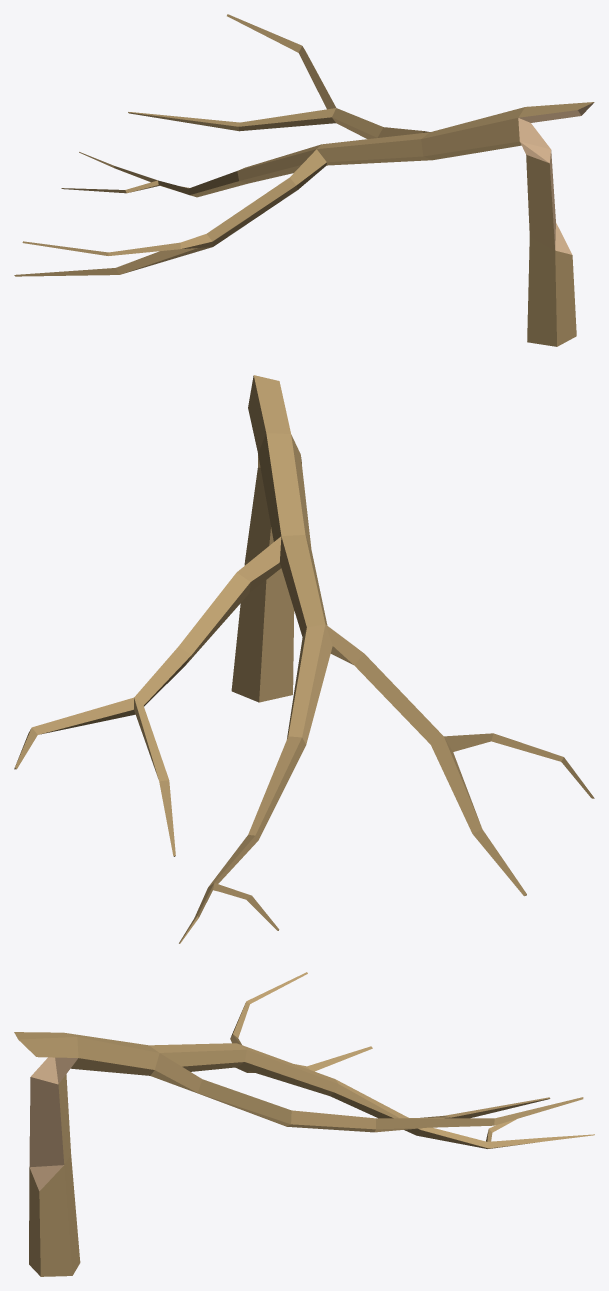
The model's file is Acacia_Tree_NoLeaves_crk_l_04.fbx.
3 renders of one model, top to bottom at view 1: azimuth 30°, elevation 25°; view 2: azimuth 150°, elevation 25°; view 3: azimuth 270°, elevation 25°, orthographic. The views are drawn at different scales.
Parts seen in each view (by area): view 1: Acacia_Tree_NoLeaves_crk_l_04; view 2: Acacia_Tree_NoLeaves_crk_l_04; view 3: Acacia_Tree_NoLeaves_crk_l_04.
Boxes of the visible parts, left/top/right/bottom form: Acacia_Tree_NoLeaves_crk_l_04: left=14, top=14, right=594, bottom=346; Acacia_Tree_NoLeaves_crk_l_04: left=14, top=375, right=594, bottom=943; Acacia_Tree_NoLeaves_crk_l_04: left=14, top=972, right=594, bottom=1276.
Size of the model in its own units: 666 by 358 by 784.
